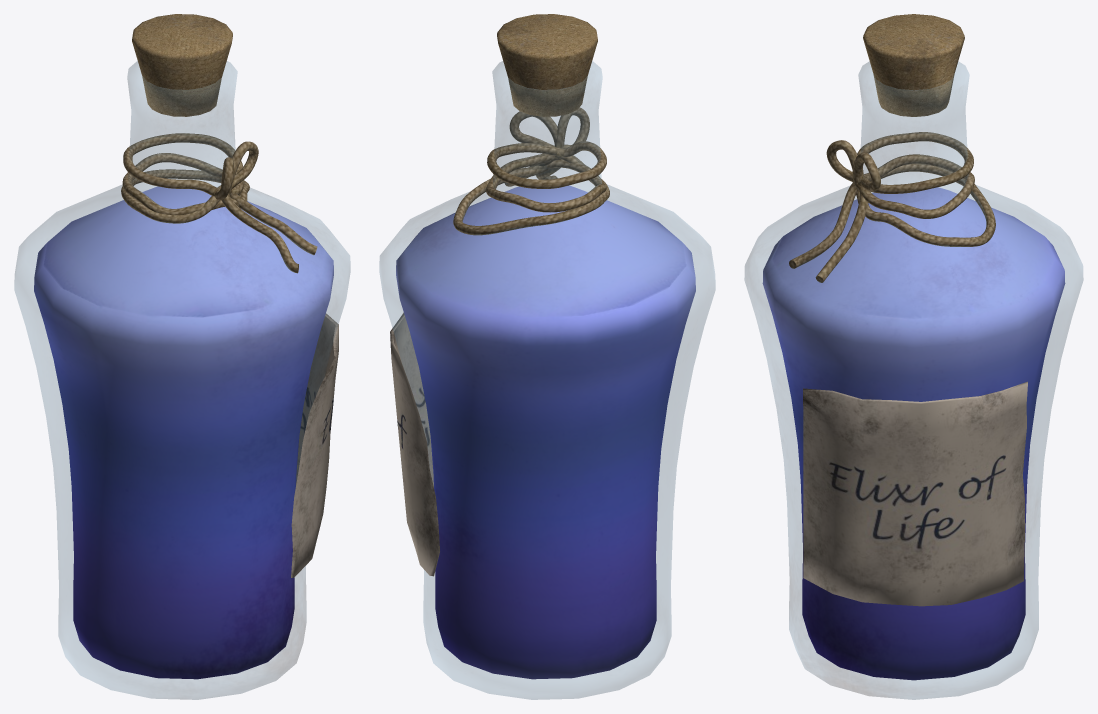
The picture shows the model from 3 angles, left to right: view 1: azimuth 30°, elevation 25°; view 2: azimuth 150°, elevation 25°; view 3: azimuth 270°, elevation 25°; orthographic projection.
Visible parts, largest first — view 1: bottle_low, insides_low, rope_low, cork_low, label_low; view 2: bottle_low, insides_low, rope_low, cork_low, label_low; view 3: bottle_low, insides_low, label_low, rope_low, cork_low.
Boxes of the visible parts, x1,y1,x2,y2 form: bottle_low: (14,61,350,699); insides_low: (34,186,333,679); rope_low: (121,133,317,273); cork_low: (132,14,232,116); label_low: (291,313,338,577); bottle_low: (379,61,715,699); insides_low: (396,185,695,679); rope_low: (453,107,609,235); cork_low: (497,14,597,116); label_low: (390,312,439,576); bottle_low: (744,61,1083,699); insides_low: (762,187,1065,680); label_low: (803,381,1027,606); rope_low: (789,132,995,282); cork_low: (863,14,964,116).
Bounding box in the file's own units: 287 × 586 × 287.
1 material, 1 textured.
